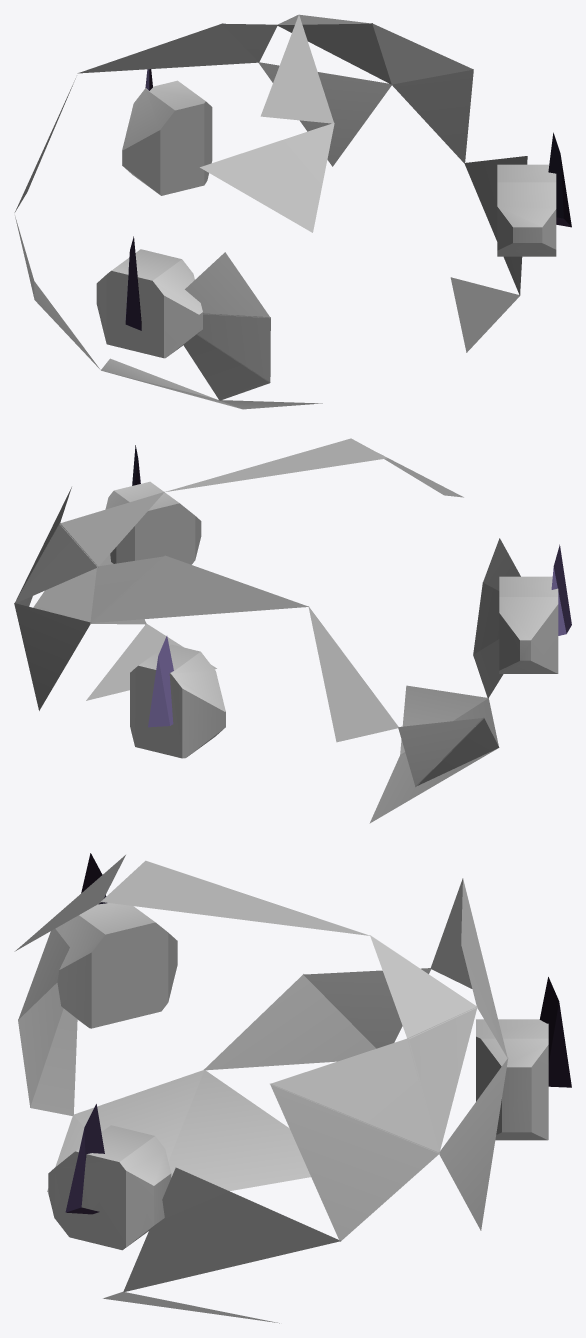
Rendered from vein_rock_c_obsidian_low.glb.
The picture shows the model from 3 angles, top to bottom: view 1: azimuth 30°, elevation 25°; view 2: azimuth 150°, elevation 25°; view 3: azimuth 270°, elevation 25°; orthographic projection. The views are drawn at different scales.
Size of the model in its own units: 1.59 by 0.9909 by 1.41.
